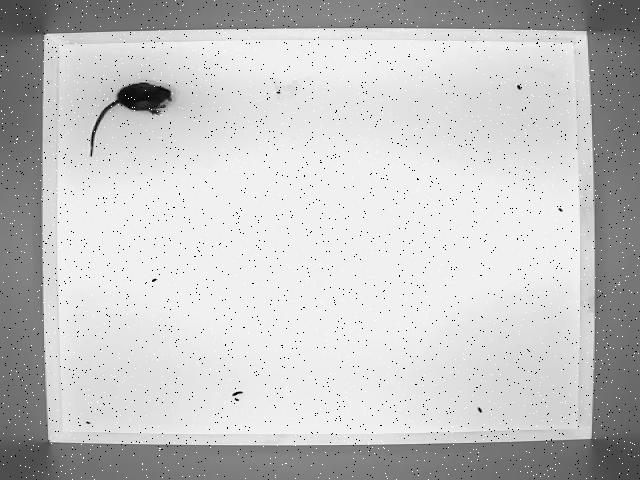Tikus: (88, 79, 176, 160)
